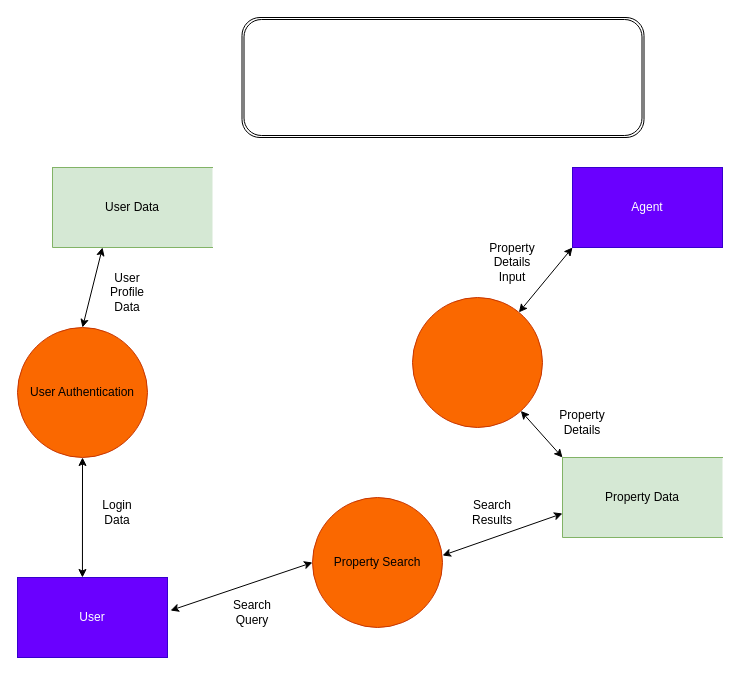
Some shapes in this 740 by 675 pixel diagram are drawn without their labels. The box of each missing label's shape, as (x1, y1, x2, y2) in pixels:
Decomposition Diagram Level 1: (241, 16, 644, 138)
Property Management: (412, 296, 542, 428)
